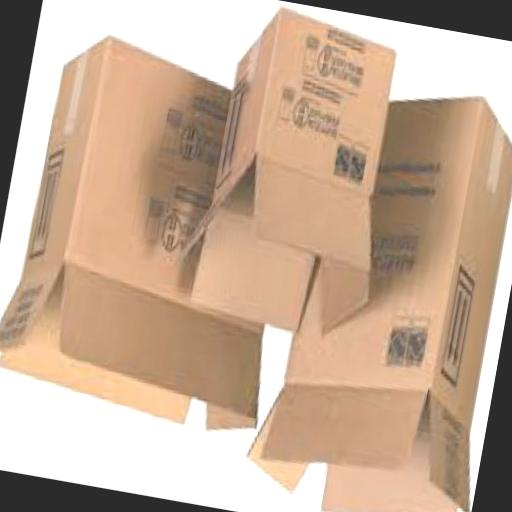cardboard: (0, 25, 314, 437), (235, 70, 512, 512), (166, 0, 411, 346)
